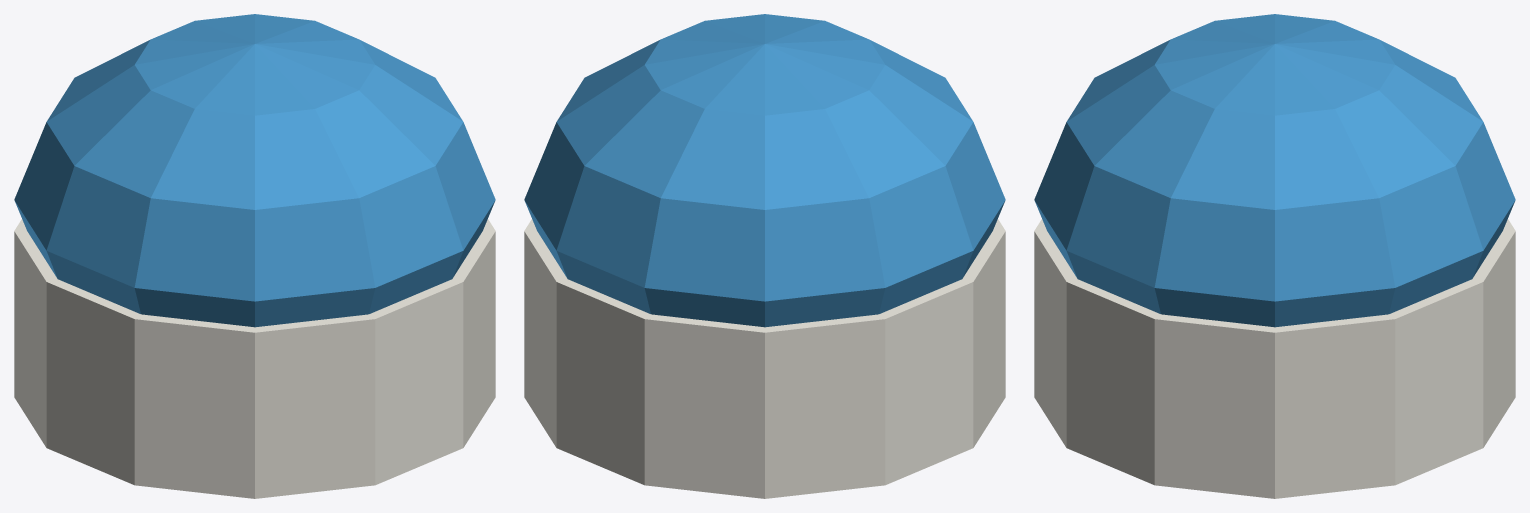
File: blue_dome.glb
3 renders of one model, left to right at view 1: azimuth 30°, elevation 25°; view 2: azimuth 150°, elevation 25°; view 3: azimuth 270°, elevation 25°, orthographic.
Visible parts, largest first — view 1: blue_dome, base; view 2: blue_dome, base; view 3: blue_dome, base.
Part boxes in pixels (x1=…): blue_dome: x1=14, y1=14, x2=495, y2=327; base: x1=14, y1=219, x2=495, y2=498; blue_dome: x1=524, y1=14, x2=1005, y2=327; base: x1=524, y1=219, x2=1005, y2=498; blue_dome: x1=1034, y1=14, x2=1515, y2=327; base: x1=1034, y1=219, x2=1515, y2=498.
Bounding box in the file's own units: 0.84 × 0.68 × 0.84.
